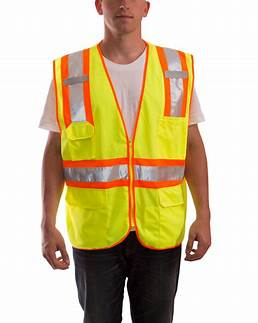Reflective vest: (51, 39, 191, 251)
